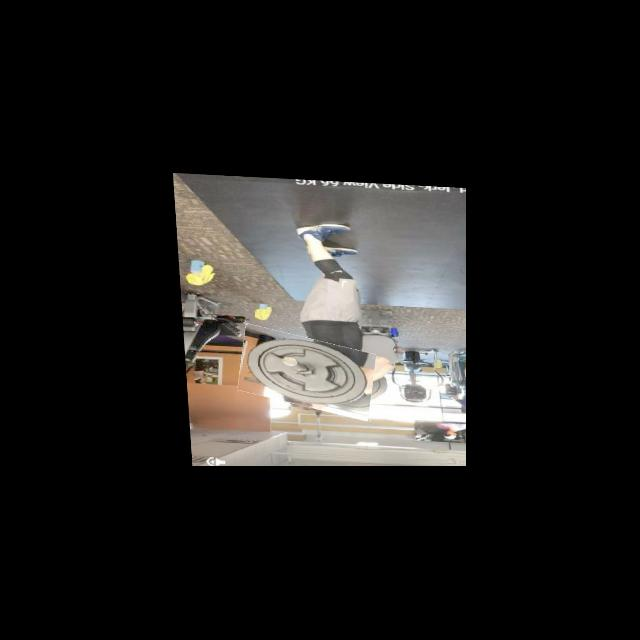barbell: (234, 328, 374, 414)
